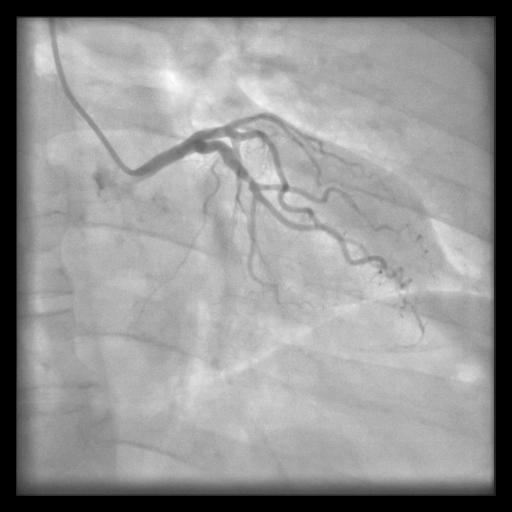Stenosis: (243, 169, 255, 188)
